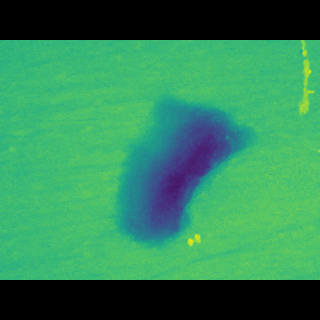Loch: (115, 111, 263, 226), (286, 69, 316, 128)
